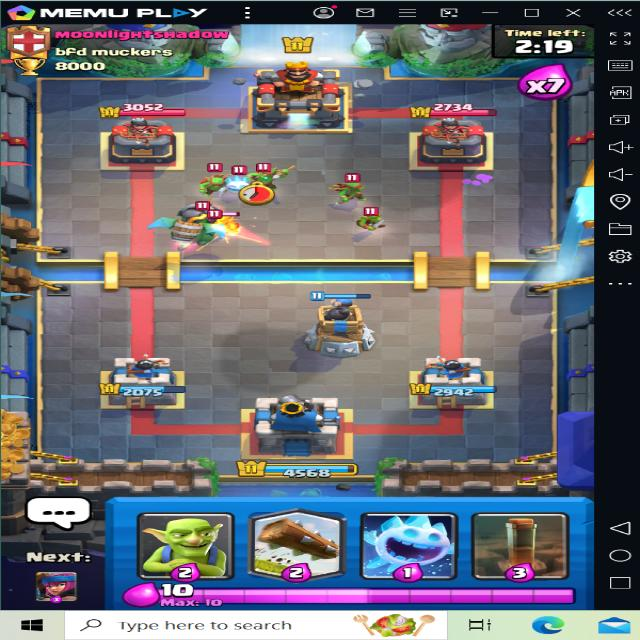goblin: (210, 210, 250, 236), (354, 209, 392, 232)
ice-spirit: (220, 168, 257, 198)
spear-goblin: (193, 162, 232, 195), (332, 172, 370, 200), (247, 164, 286, 190)
